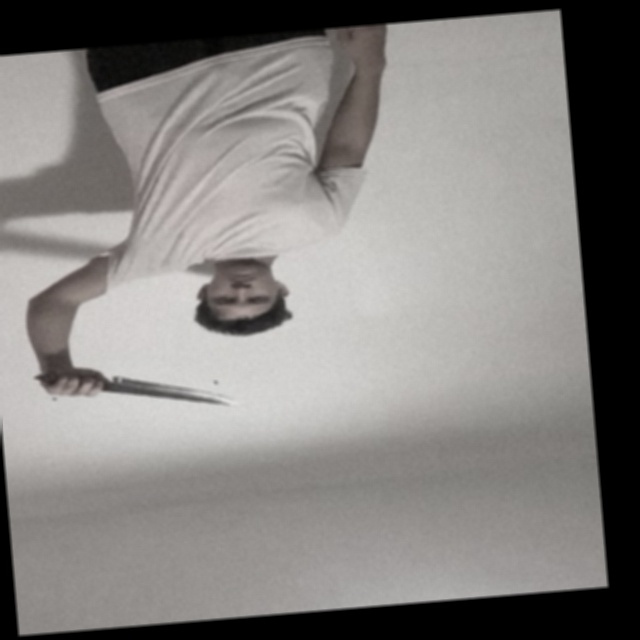Sharp-Object: (111, 369, 236, 415)
